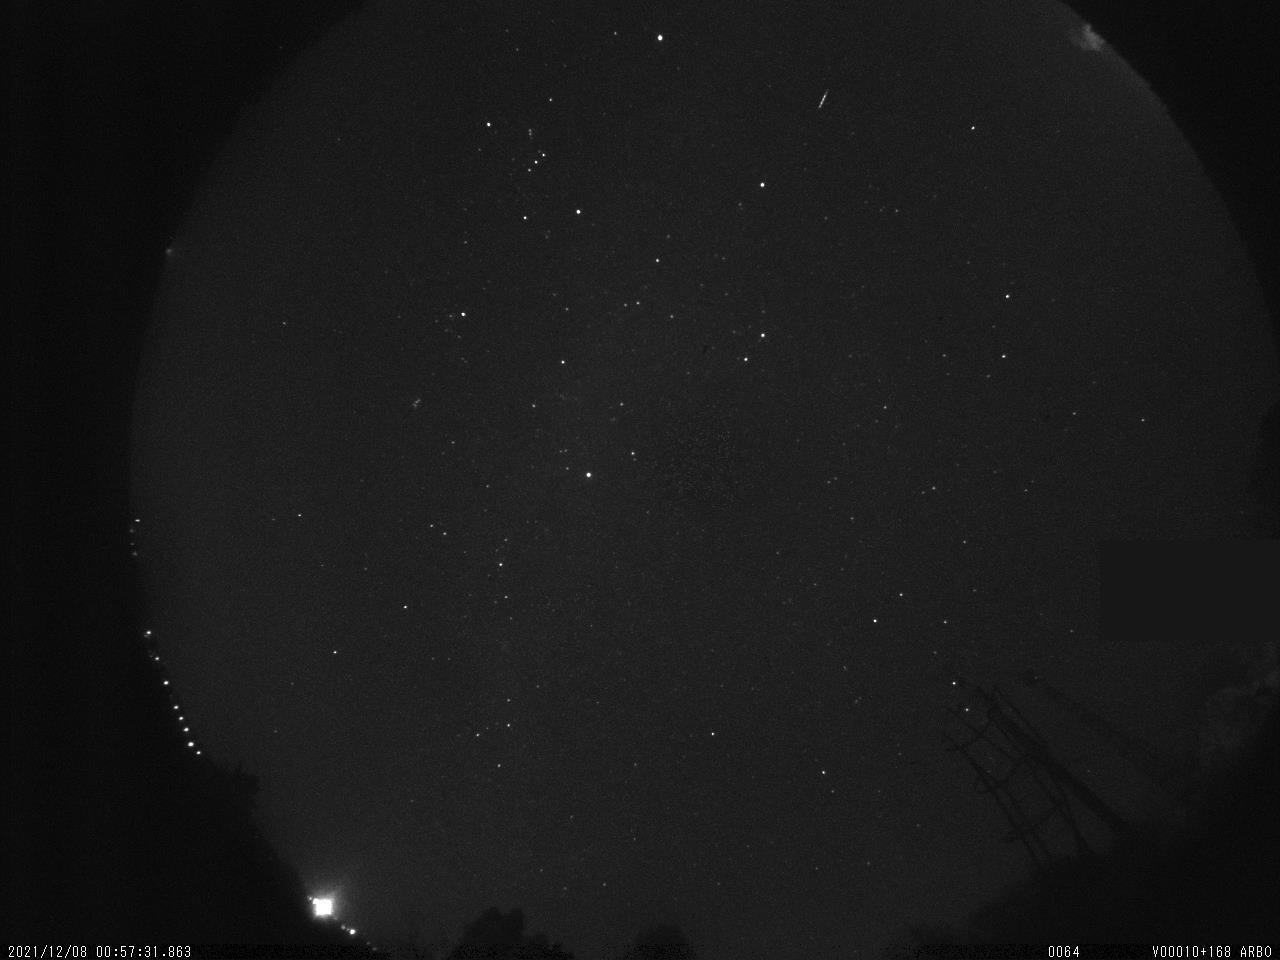meteor: (809, 82, 846, 113)
